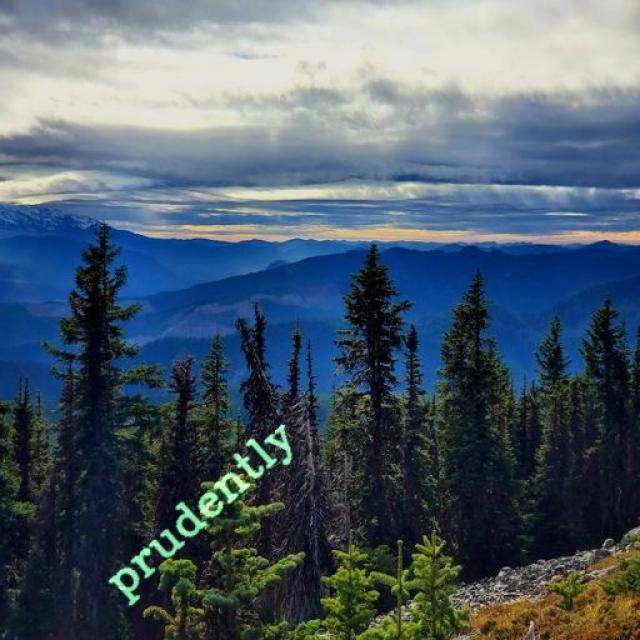watermark: (110, 405, 298, 606)
